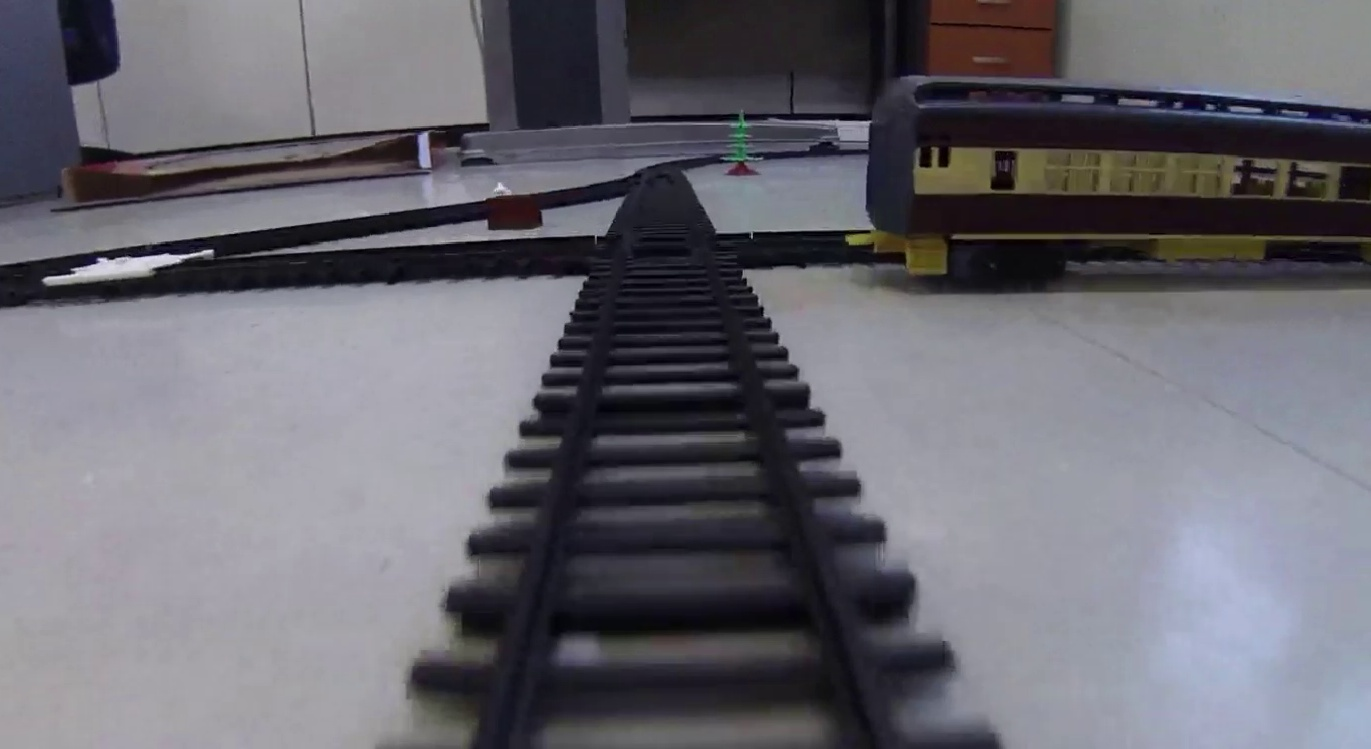box: (486, 194, 544, 230)
tree: (720, 110, 766, 176)
web: (46, 250, 214, 281)
